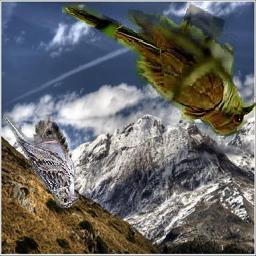Cuckoo: (62, 2, 256, 136)
Sparrow: (3, 114, 79, 208)
